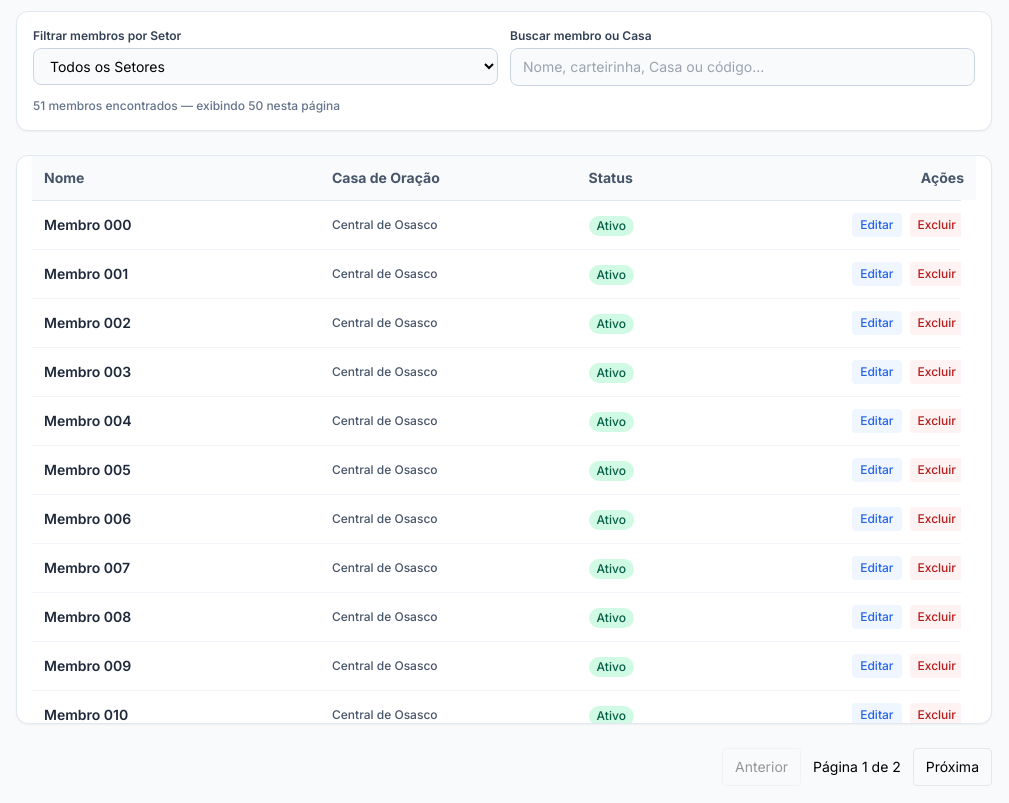
Scenario: S02-A — MembrosView (Diretório de Membros Frontend) › pagina listas extensas e mantém a pesquisa sobre todos os membros
This screenshot has width=1009, height=803.
(page scrolled)
Expected: the text "Membro 000" is shown, [32,200,320,250]
Expected: the text "Membro 050" is not shown
Click the button "Próxima" at (952, 767), box [913,748,992,786]
(page scrolled)
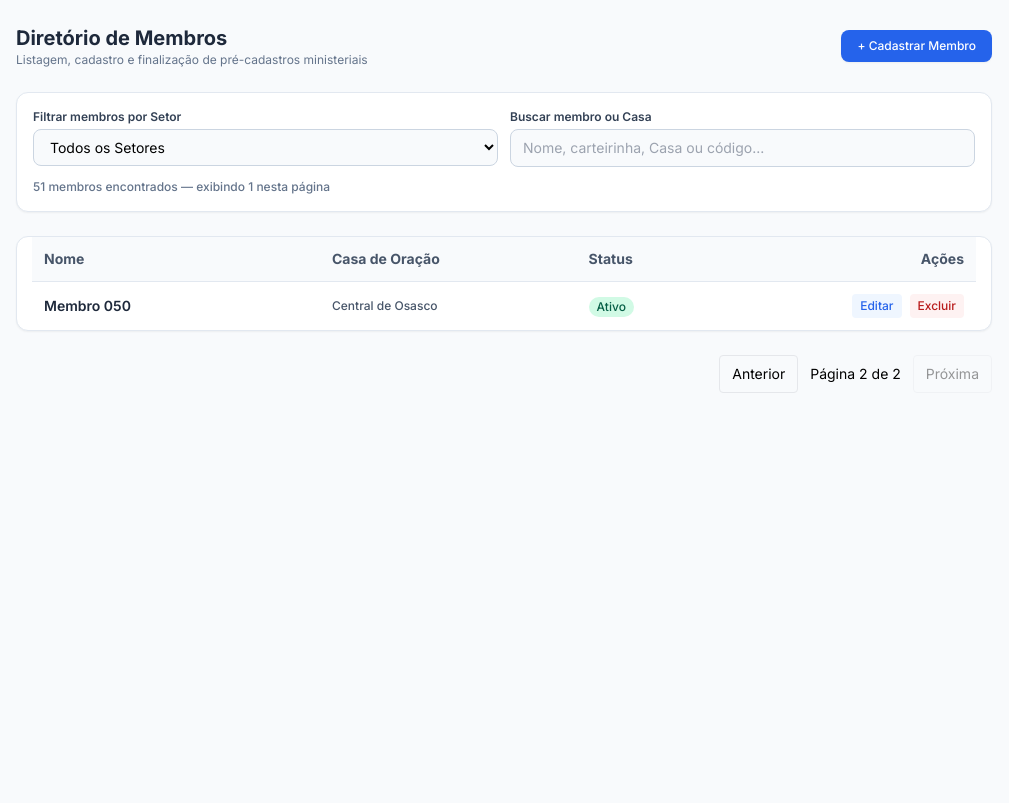
Now the text "Membro 050" is shown, box [32,282,320,330]
Now the text "Membro 000" is gone
Type "Membro 000" into the search field labelled "Buscar membro ou Casa" at (742, 148), box [510,129,975,167]
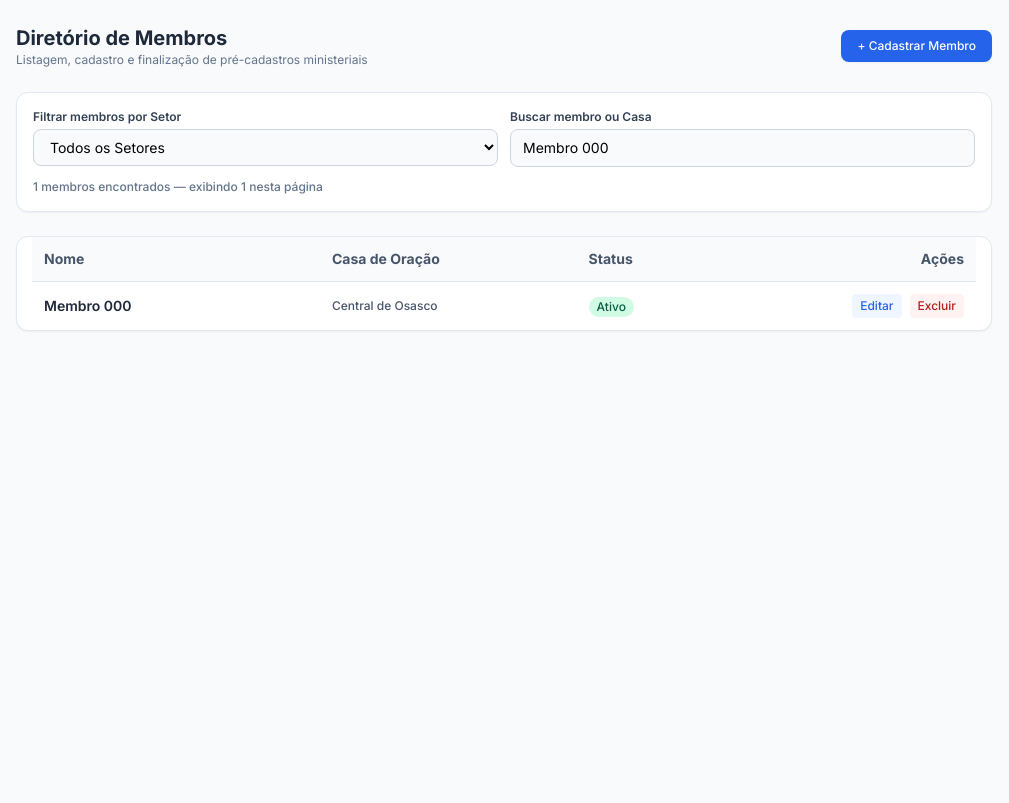
Now the text "Membro 000" is shown, box [32,282,320,330]
Now the button "Próxima" is gone
